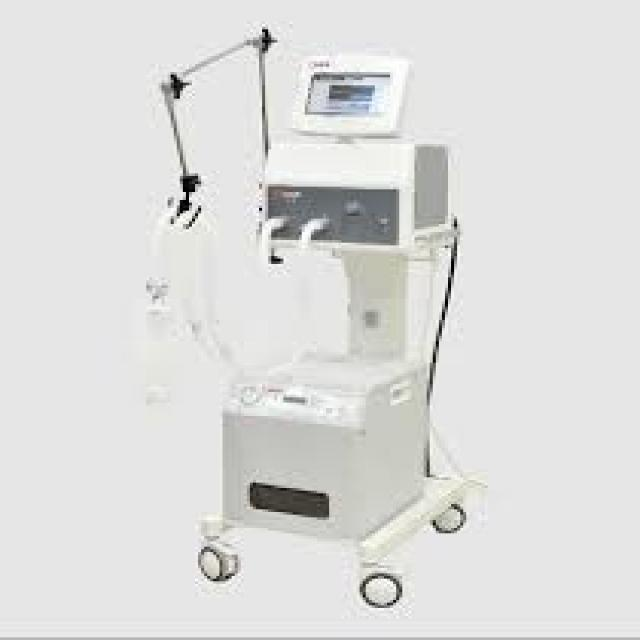ventilator: (153, 1, 462, 584)
